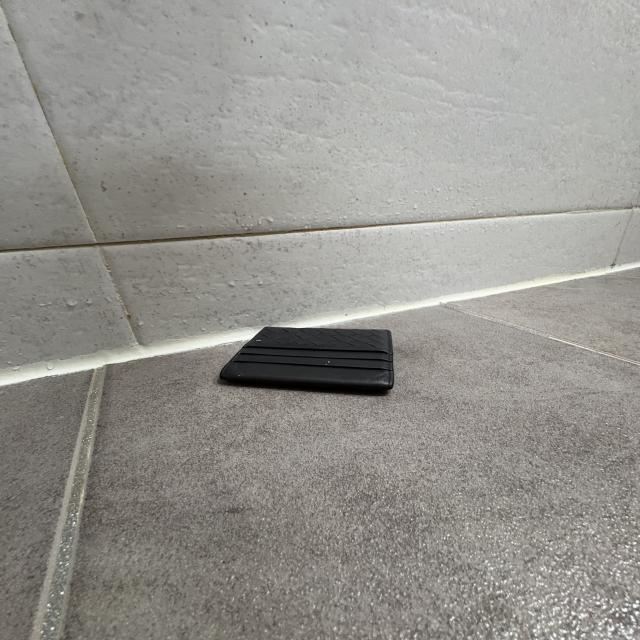wallet: (218, 324, 395, 395)
